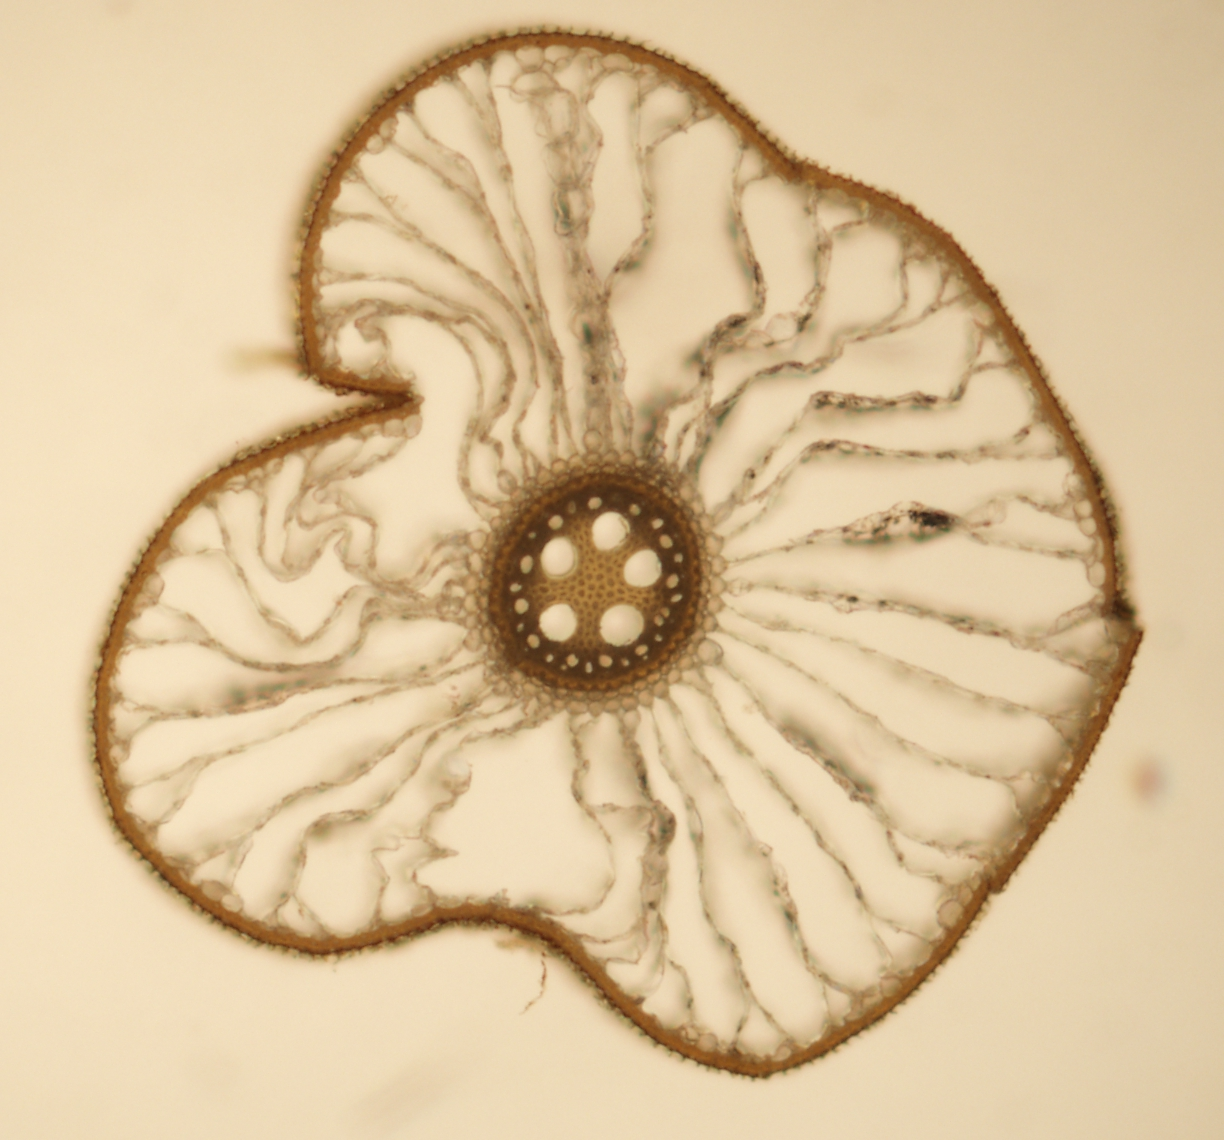lm: (599, 604, 644, 646), (591, 511, 630, 552), (539, 536, 577, 579), (538, 603, 578, 642), (624, 549, 663, 587)
